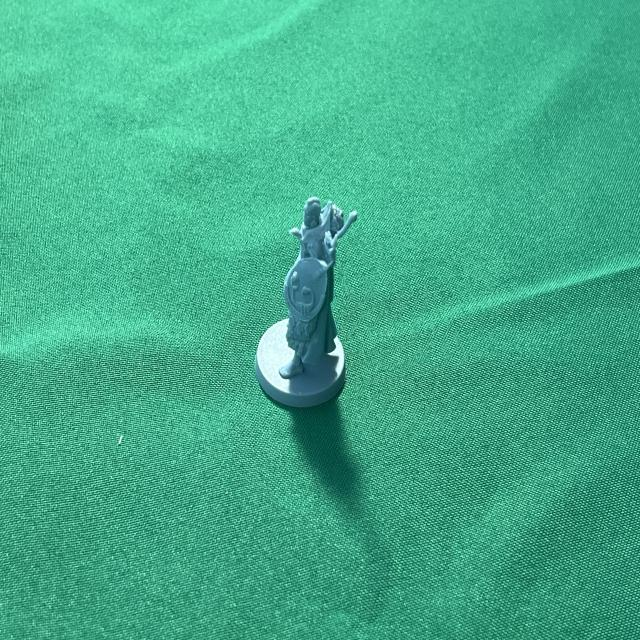isis_follower: (253, 193, 349, 405)
